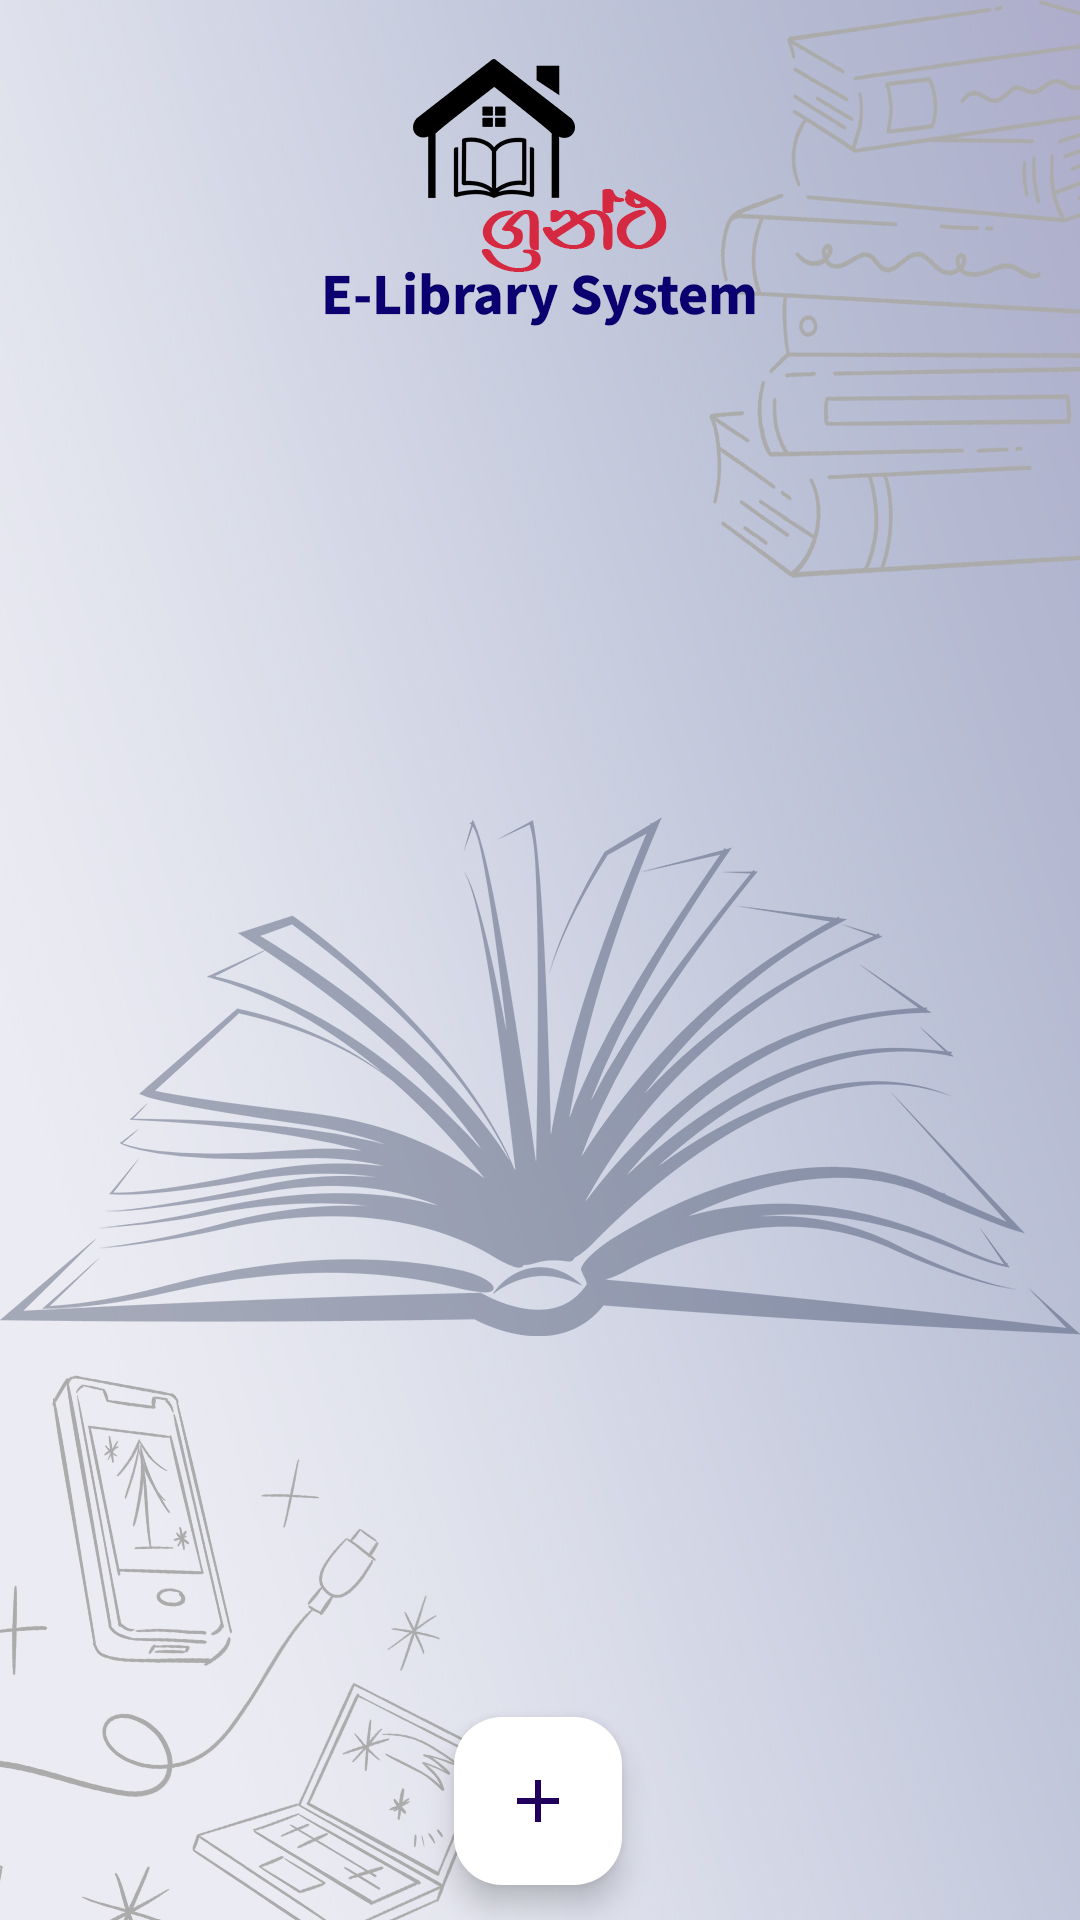

Locate icon controls on the screen. Image size 1080*1920, boxes as (x1, y1, x2, y2).
add: (454, 1717, 622, 1885)
